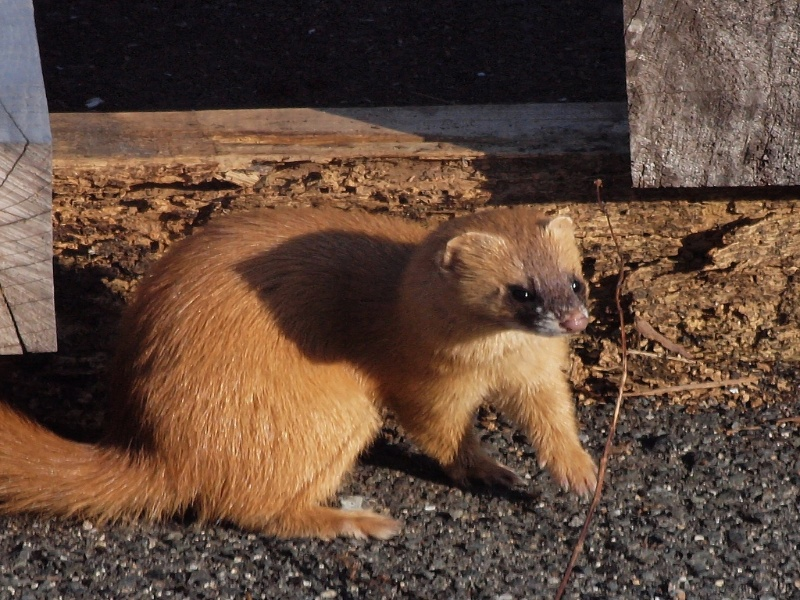minkish: (1, 187, 617, 543)
